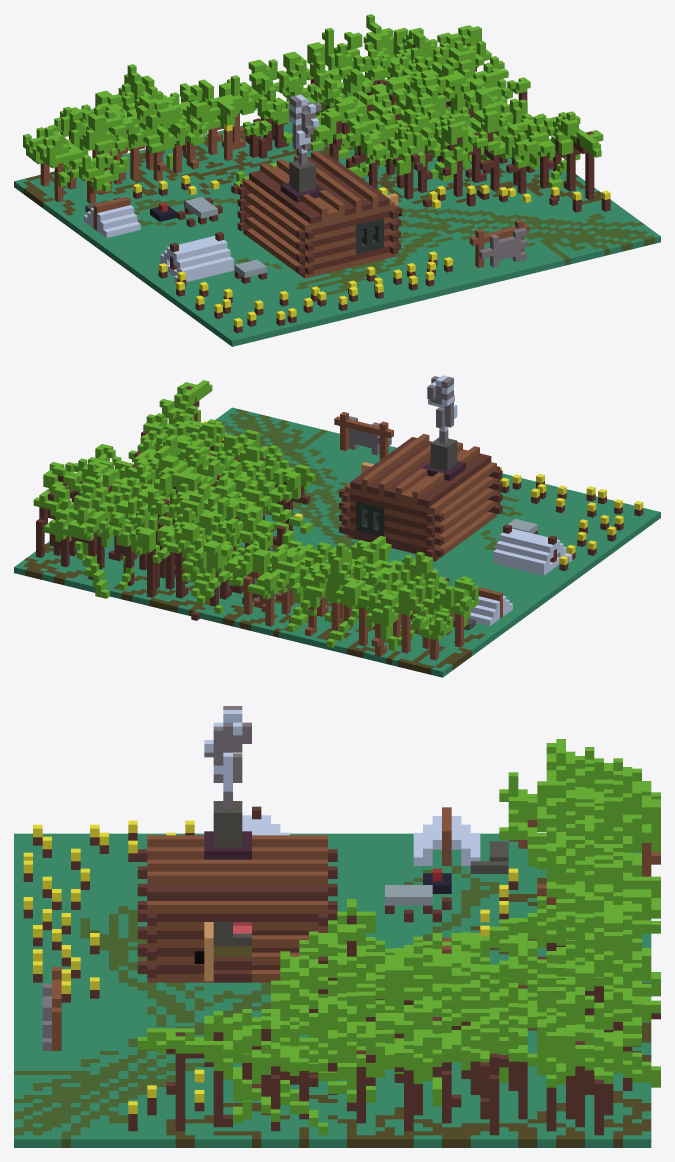
File: forest_spot.obj
3 views of the same model, one above another, from view 1: azimuth 30°, elevation 25°; view 2: azimuth 150°, elevation 25°; view 3: azimuth 270°, elevation 25° (orthographic). The views are drawn at different scales.
Bounding box in the file's own units: 7.6 × 2.7 × 6.8.
1 material, 1 textured.
